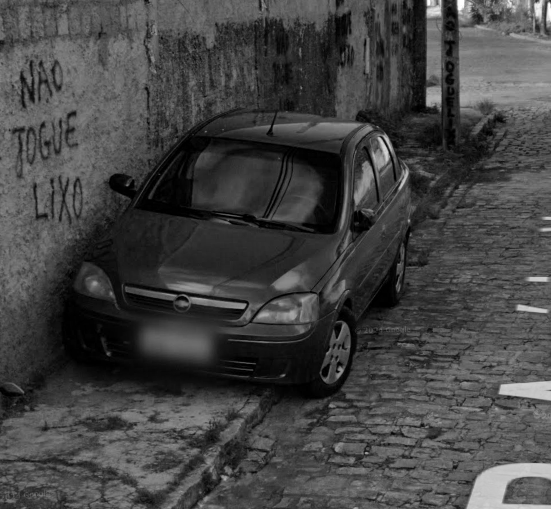car: (60, 100, 415, 397)
